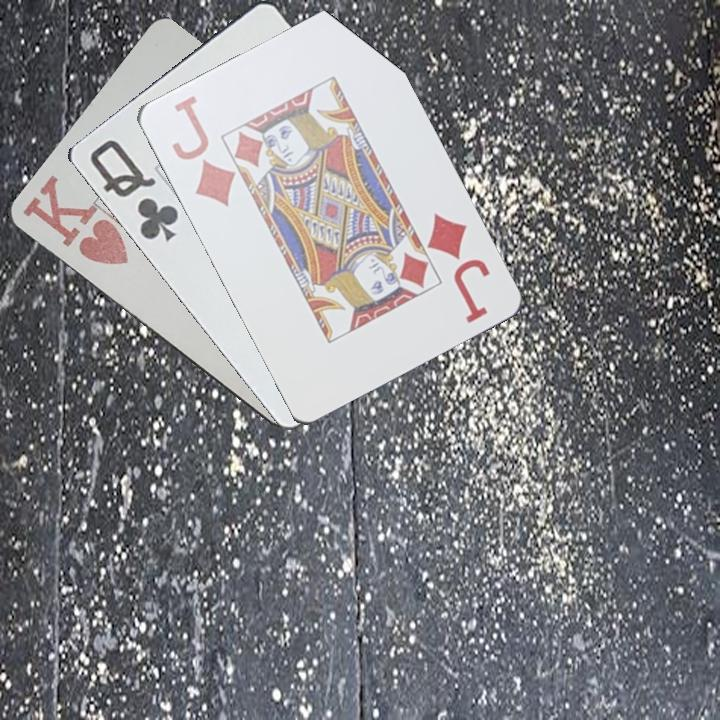Jd: (167, 92, 237, 210), (423, 209, 493, 326)
Kh: (18, 173, 132, 270)
Qc: (85, 135, 181, 245)
